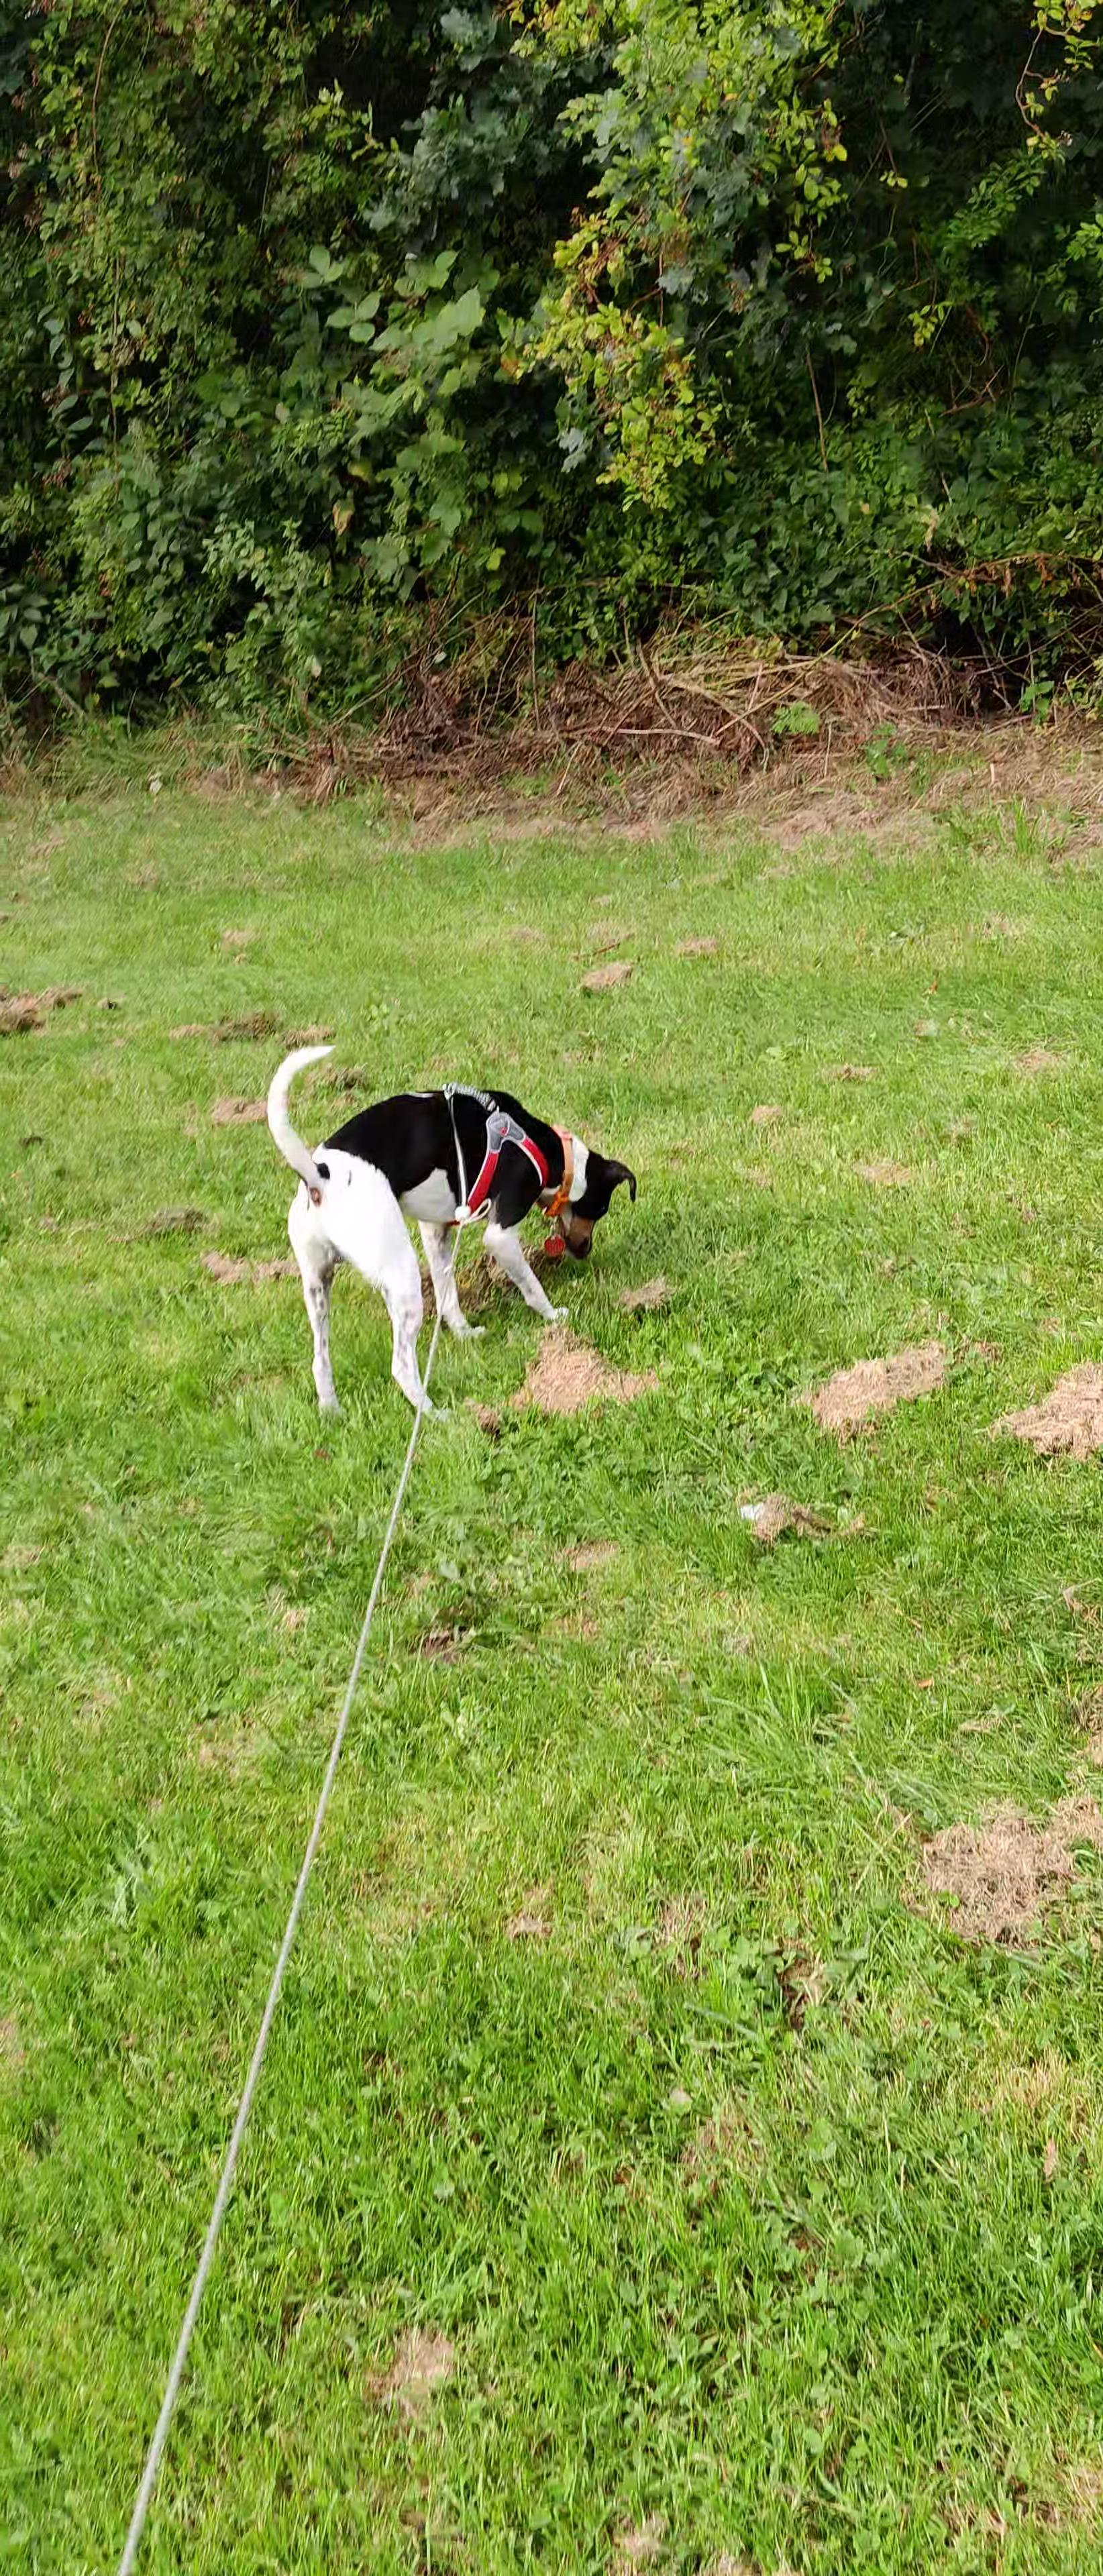Dog: (248, 1023, 651, 1439)
